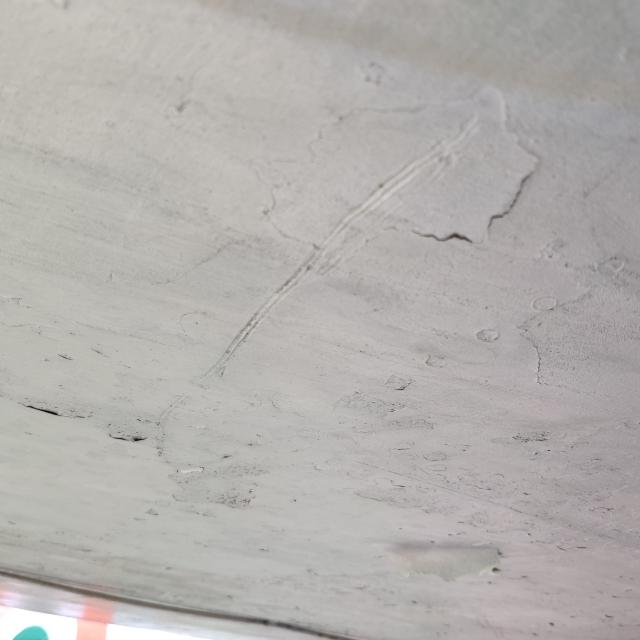paint-off: (361, 513, 513, 602)
scratch: (182, 101, 499, 395)
